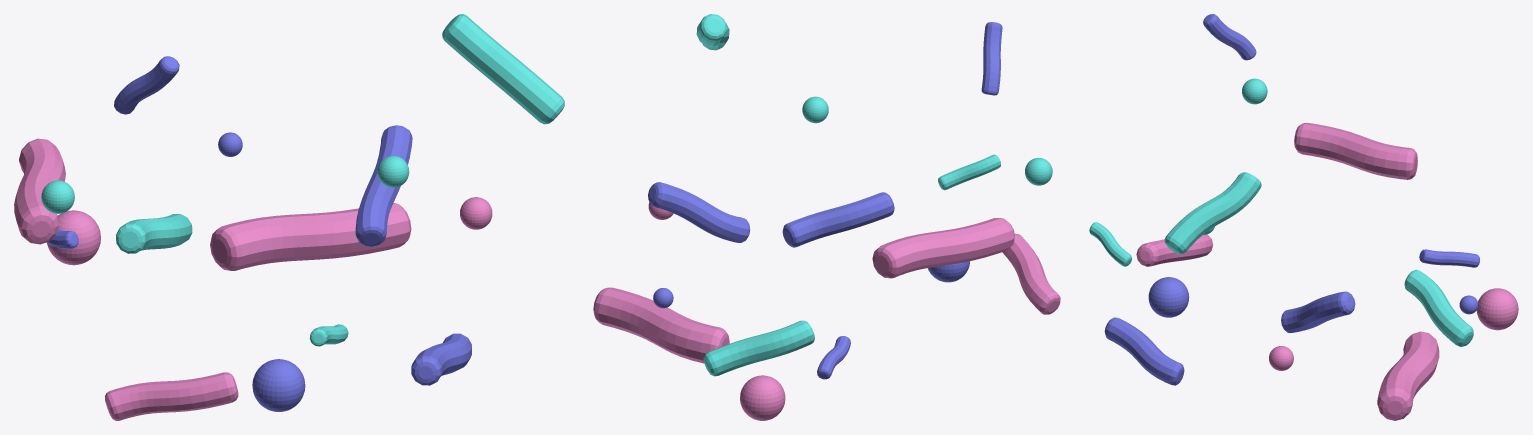
The picture shows the model from 3 angles, left to right: view 1: azimuth 30°, elevation 25°; view 2: azimuth 150°, elevation 25°; view 3: azimuth 270°, elevation 25°; orthographic projection. The views are drawn at different scales.
Visible parts, largest first — view 1: BezierCurve, BezierCurve.001, BezierCurve.004, BezierCurve.002, BezierCurve.007, BezierCurve.006, Sphere.002, BezierCurve.005, Sphere, BezierCurve.003, Sphere.003, Sphere.001 (+2 smaller); view 2: BezierCurve, BezierCurve.002, BezierCurve.006, BezierCurve.005, BezierCurve.007, BezierCurve.004, Sphere, BezierCurve.003, BezierCurve.008, BezierCurve.001, BezierCurve.009, Sphere.003 (+2 smaller); view 3: BezierCurve.002, BezierCurve, BezierCurve.001, BezierCurve.005, BezierCurve.006, BezierCurve.007, Sphere, BezierCurve.004, Sphere.002, BezierCurve.003, BezierCurve.009, BezierCurve.008 (+2 smaller).
Part boxes in pixels (<box>): BezierCurve: <box>210,203,411,270</box>; BezierCurve.001: <box>442,14,564,124</box>; BezierCurve.004: <box>105,372,238,420</box>; BezierCurve.002: <box>14,138,65,244</box>; BezierCurve.007: <box>355,125,412,246</box>; BezierCurve.006: <box>116,214,192,253</box>; Sphere.002: <box>252,359,305,411</box>; BezierCurve.005: <box>411,333,471,385</box>; Sphere: <box>47,210,100,265</box>; BezierCurve.003: <box>114,56,179,114</box>; Sphere.003: <box>41,180,74,213</box>; Sphere.001: <box>460,197,492,229</box>; BezierCurve: <box>593,287,729,363</box>; BezierCurve.002: <box>872,218,1014,278</box>; BezierCurve.006: <box>703,320,814,376</box>; BezierCurve.005: <box>782,192,894,247</box>; BezierCurve.007: <box>648,182,750,242</box>; BezierCurve.004: <box>1002,233,1060,314</box>; Sphere: <box>740,375,785,420</box>; BezierCurve.003: <box>981,22,1002,95</box>; BezierCurve.008: <box>938,154,1000,190</box>; BezierCurve.001: <box>696,14,729,50</box>; BezierCurve.009: <box>817,336,850,379</box>; Sphere.003: <box>1025,157,1052,185</box>; BezierCurve.002: <box>1294,122,1417,179</box>; BezierCurve: <box>1377,331,1439,420</box>; BezierCurve.001: <box>1164,172,1261,254</box>; BezierCurve.005: <box>1104,317,1184,385</box>; BezierCurve.006: <box>1404,269,1473,346</box>; BezierCurve.007: <box>1281,291,1355,332</box>; Sphere: <box>1476,288,1518,330</box>; BezierCurve.004: <box>1136,234,1213,266</box>; Sphere.002: <box>1148,277,1189,317</box>; BezierCurve.003: <box>1203,14,1256,60</box>; BezierCurve.009: <box>1419,249,1479,267</box>; BezierCurve.008: <box>1089,222,1131,266</box>.
Bounding box in the file's own units: 1.11 × 0.8227 × 1.15.
